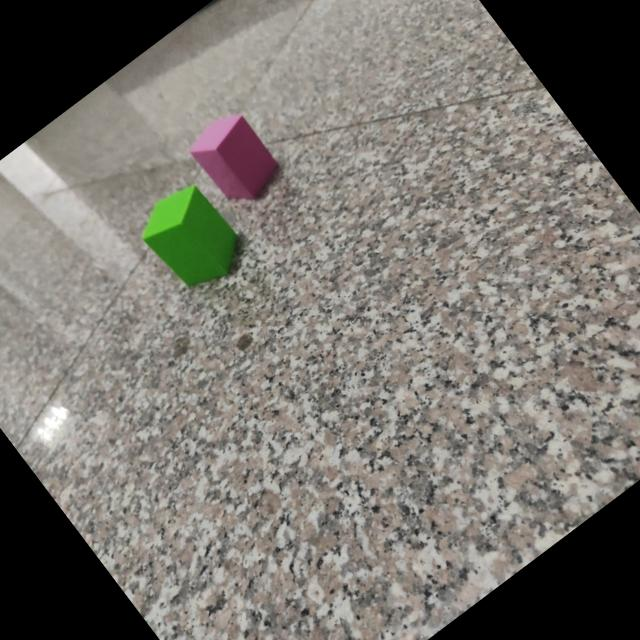green: (142, 186, 243, 289)
pink: (191, 113, 282, 202)
